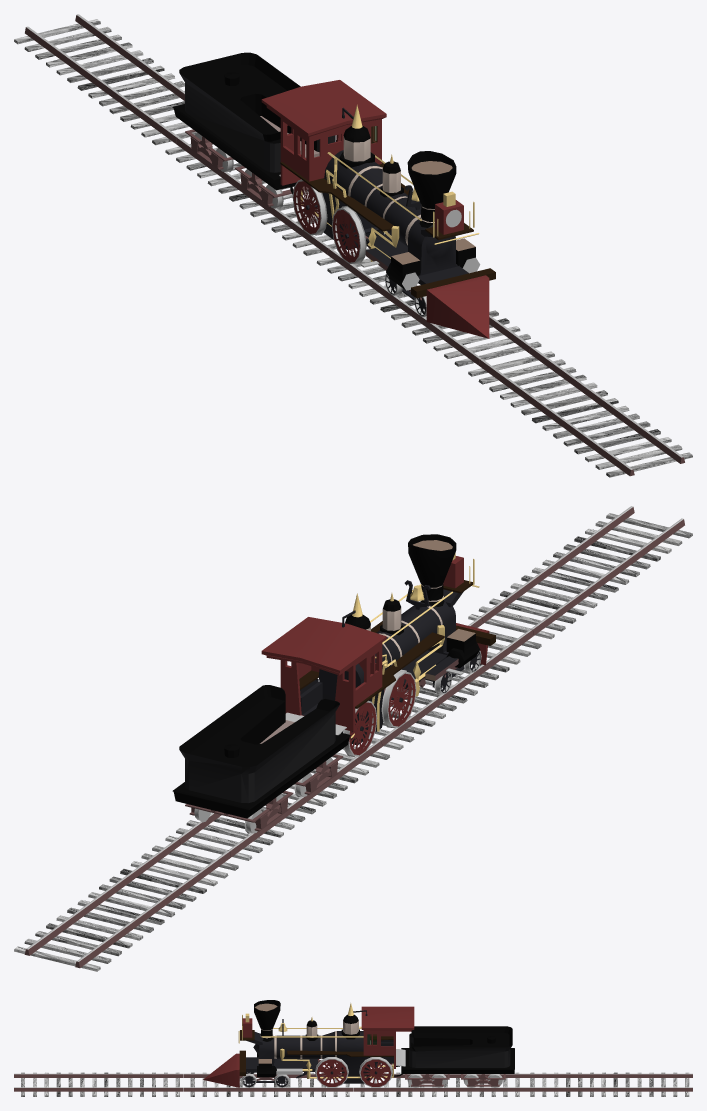
Rendered from www_modown_cn_train_13.fbx.
3 views of the same model, one above another, from view 1: azimuth 30°, elevation 25°; view 2: azimuth 150°, elevation 25°; view 3: azimuth 270°, elevation 25° (orthographic). The views are drawn at different scales.
Parts seen in each view (by area): view 1: GEN_LOCO, GEN_TENDER, RAIL01, RAIL03, RAIL, GEN_DETAIL, RAIL02, GEN_BR_02, GEN_BR_04, GEN_TRUCK0, GEN_TRUCK1; view 2: GEN_LOCO, GEN_TENDER, RAIL03, RAIL01, RAIL02, RAIL, GEN_DETAIL, GEN_BR_02, GEN_BR_04, GEN_TRUCK1, GEN_TRUCK0; view 3: GEN_LOCO, GEN_TENDER, RAIL03, RAIL01, RAIL, RAIL02, GEN_DETAIL, GEN_BR_01, GEN_BR_03, GEN_TRUCK1, GEN_TRUCK0, GEN_LR_01 (+1 smaller).
Boxes of the visible parts, x1,y1,x2,y2 form: GEN_LOCO: (261,80,495,338); GEN_TENDER: (172,52,335,190); RAIL01: (468,346,692,477); RAIL03: (14,14,196,145); RAIL: (316,248,541,366); GEN_DETAIL: (280,152,479,261); RAIL02: (165,137,384,255); GEN_BR_02: (332,206,366,264); GEN_BR_04: (292,179,327,235); GEN_TRUCK0: (235,166,308,206); GEN_TRUCK1: (185,129,233,169); GEN_LOCO: (261,534,495,744); GEN_TENDER: (172,685,350,818); RAIL03: (14,838,238,971); RAIL01: (468,506,692,639); RAIL02: (165,740,389,860); RAIL: (372,617,541,749); GEN_DETAIL: (299,553,479,738); GEN_BR_02: (381,669,416,727); GEN_BR_04: (343,700,377,756); GEN_TRUCK1: (185,791,293,831); GEN_TRUCK0: (295,754,343,794); GEN_LOCO: (203,1000,414,1087); GEN_TENDER: (401,1026,514,1073); RAIL03: (523,1072,692,1096); RAIL01: (14,1072,183,1096); RAIL: (184,1072,353,1096); RAIL02: (353,1072,523,1096); GEN_DETAIL: (238,1013,393,1078); GEN_BR_01: (315,1057,348,1087); GEN_BR_03: (359,1057,392,1087); GEN_TRUCK1: (461,1074,505,1086); GEN_TRUCK0: (405,1074,449,1086); GEN_LR_01: (241,1073,256,1087).
Bounding box in the file's own units: 184 × 285 × 2110.
19 materials, 1 textured.
